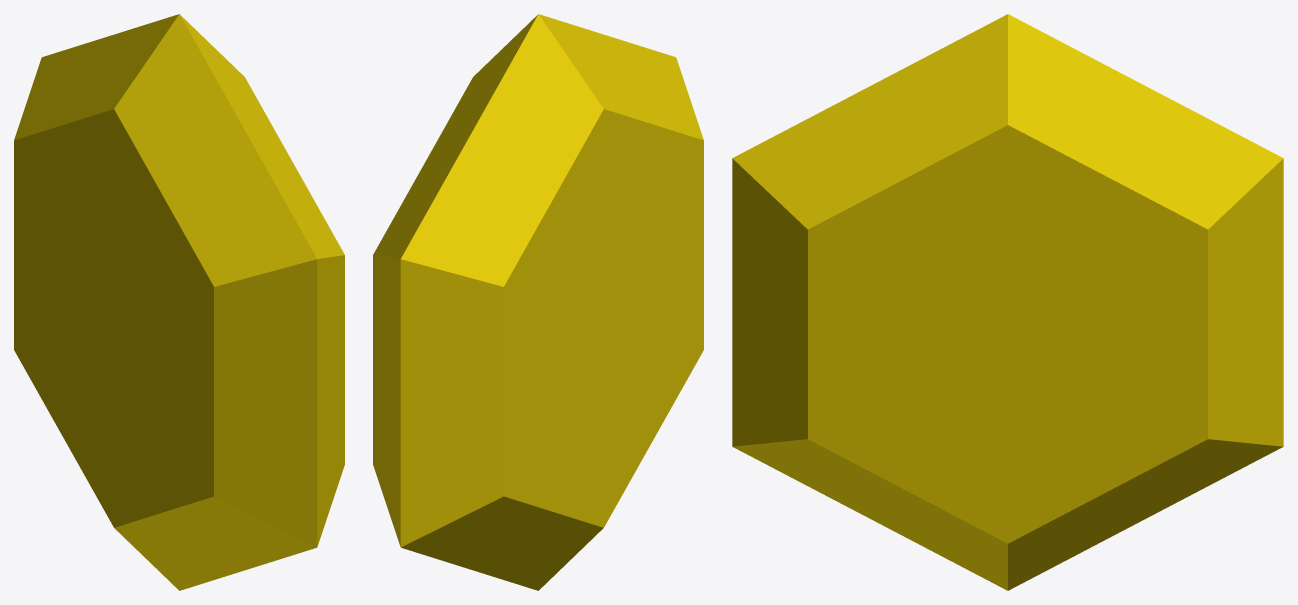
File: buildpoint.fbx
3 views of the same model, side by side, from view 1: azimuth 30°, elevation 25°; view 2: azimuth 150°, elevation 25°; view 3: azimuth 270°, elevation 25° (orthographic).
Parts seen in each view (by area): view 1: buildpoint1; view 2: buildpoint1; view 3: buildpoint1.
Part boxes in pixels (box(x1,y1,x2,y2)): buildpoint1: box(14, 14, 344, 590); buildpoint1: box(373, 14, 703, 590); buildpoint1: box(732, 14, 1283, 590).
Bounding box in the file's own units: 0.4746 × 2 × 1.73.
